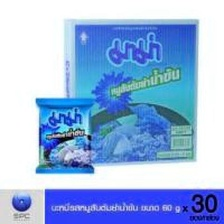book: (57, 12, 205, 171)
snack: (29, 92, 100, 178)
